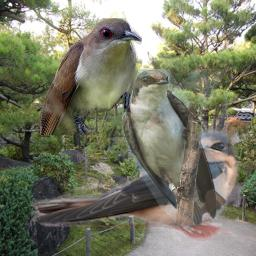Cuckoo: (40, 18, 142, 135)
Swallow: (31, 127, 239, 241), (122, 69, 228, 228)
